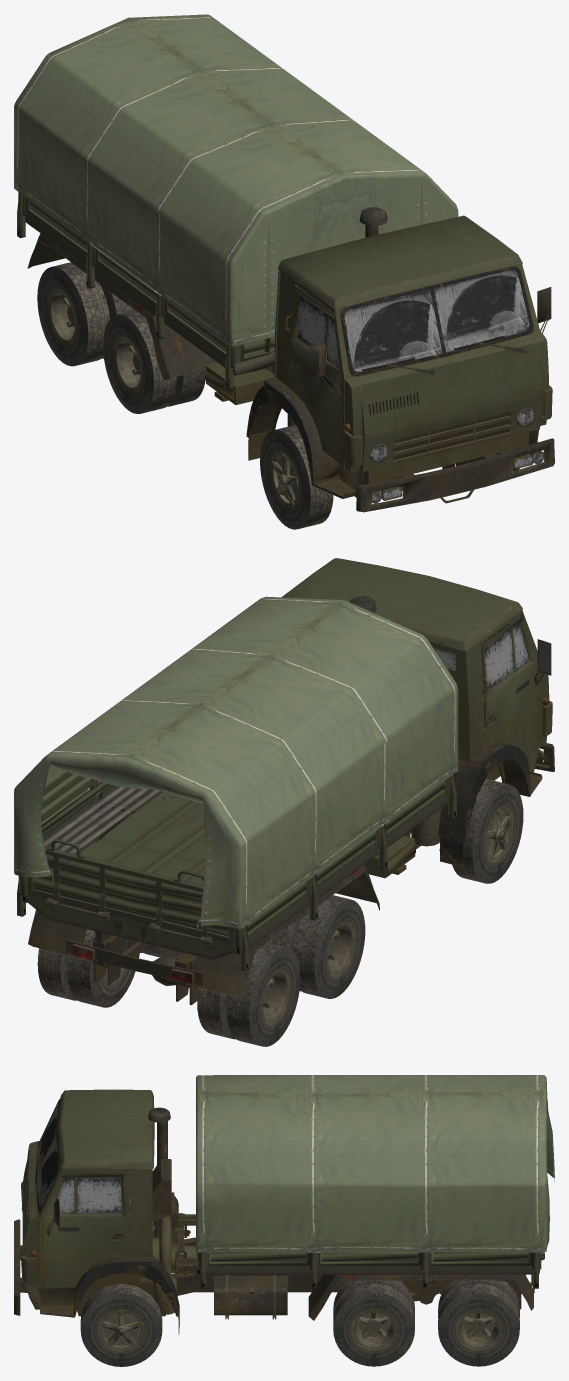
File: renault_gbc180.glb
3 views of the same model, one above another, from view 1: azimuth 30°, elevation 25°; view 2: azimuth 150°, elevation 25°; view 3: azimuth 270°, elevation 25° (orthographic). The views are drawn at different scales.
Visible parts, largest first — view 1: Kung_1, Body_0, Chassi_2; view 2: Kung_1, Chassi_2, Body_0; view 3: Kung_1, Body_0, Chassi_2.
Boxes of the visible parts, x1,y1,x2,y2 form: Kung_1: (14, 14, 458, 346); Body_0: (27, 207, 554, 512); Chassi_2: (17, 192, 543, 529); Kung_1: (14, 596, 458, 928); Chassi_2: (17, 616, 528, 1046); Body_0: (28, 558, 554, 1005); Kung_1: (196, 1075, 554, 1252); Body_0: (14, 1089, 534, 1334); Chassi_2: (21, 1102, 544, 1366).
Size of the model in its own units: 2.93 by 3.35 by 7.08.
Materials: 5 (5 with a texture image).
